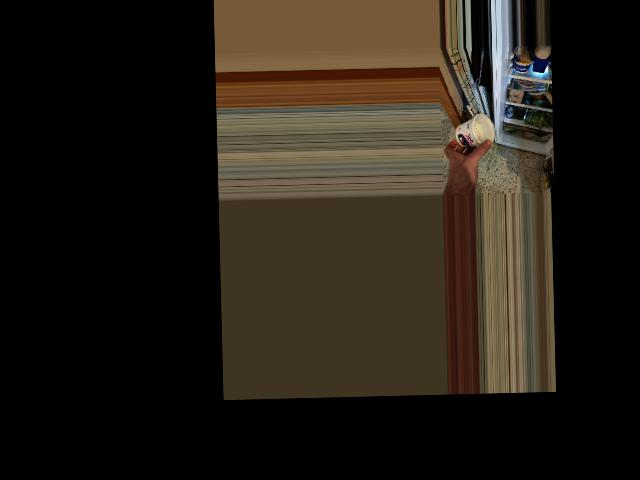cotage: (458, 110, 490, 147)
